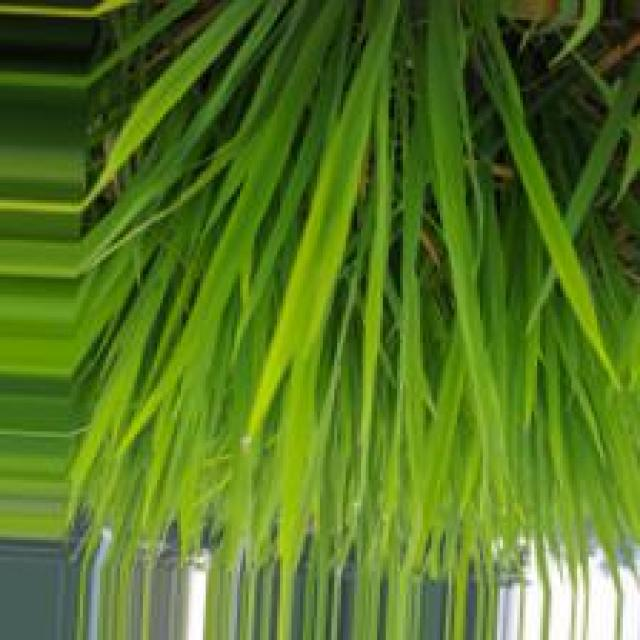HealthyLeaf: (124, 30, 334, 503), (245, 0, 403, 503)
